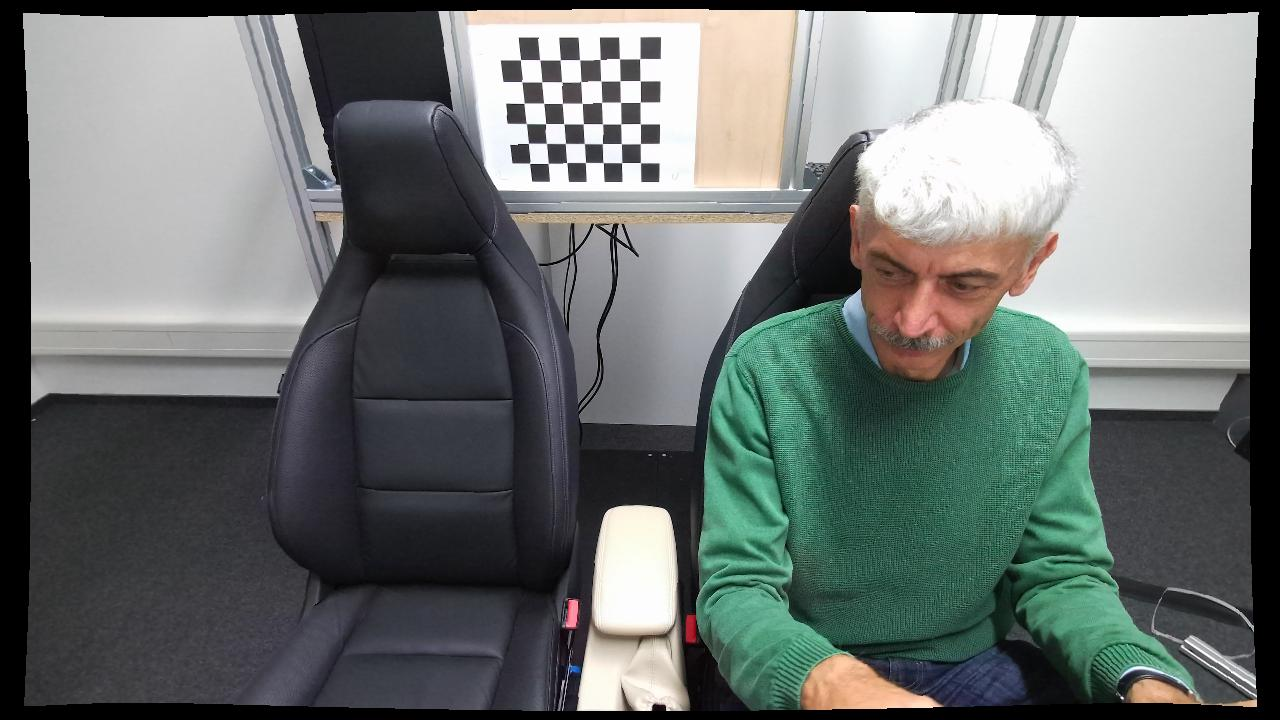Distracted: (694, 91, 1205, 715)
